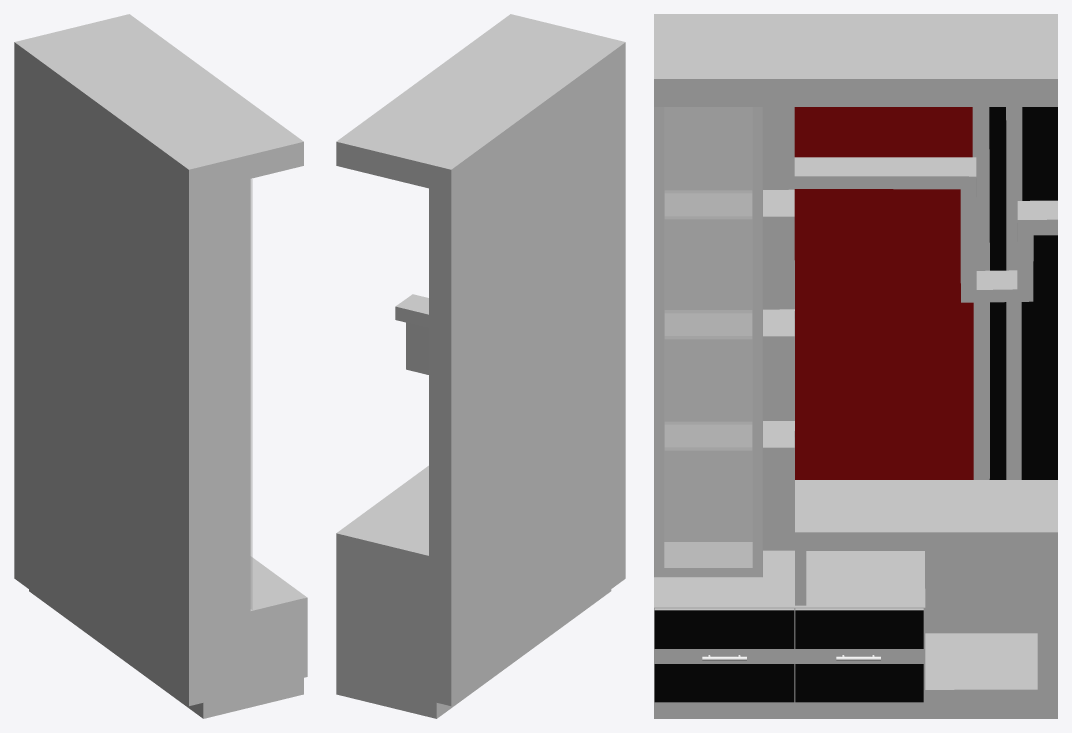
File: Lemari_Yudi_Kecil.glb
The picture shows the model from 3 angles, left to right: view 1: azimuth 30°, elevation 25°; view 2: azimuth 150°, elevation 25°; view 3: azimuth 270°, elevation 25°; orthographic projection. The views are drawn at different scales.
Parts seen in each view (by area): view 1: Cube; view 2: Cube; view 3: Cube.
Boxes of the visible parts, box(x1,y1,x2,y2) form: Cube: box(14, 14, 307, 718); Cube: box(336, 14, 625, 718); Cube: box(654, 14, 1057, 718).
Size of the model in its own units: 0.9147 by 3.86 by 2.21.
